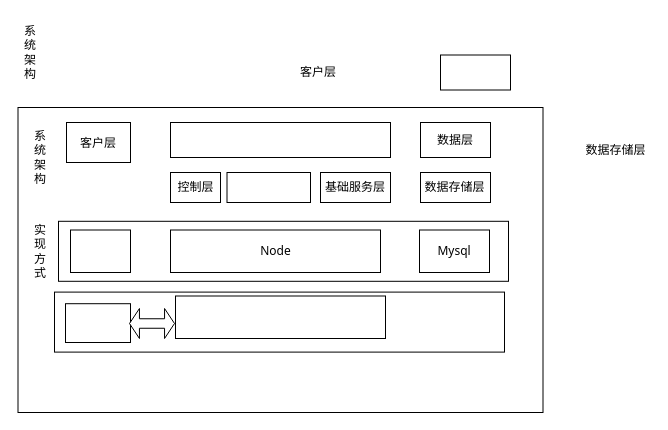
The diagram is 668 pixels wide and 430 high, and some of its shapes have lost their labels. Each missing label, with the centre of its shape:
JSON: (151,323)
业务层: (268,187)
应用层: (280,140)
